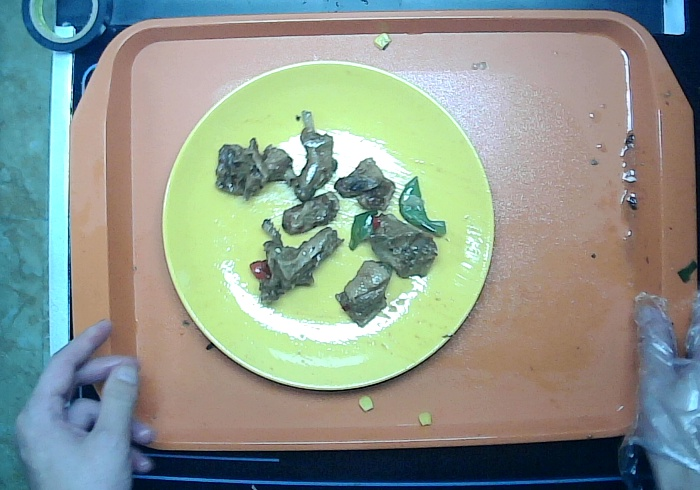HZYJPL-Huang_Se_Yuan_Pan: (151, 55, 497, 400)
